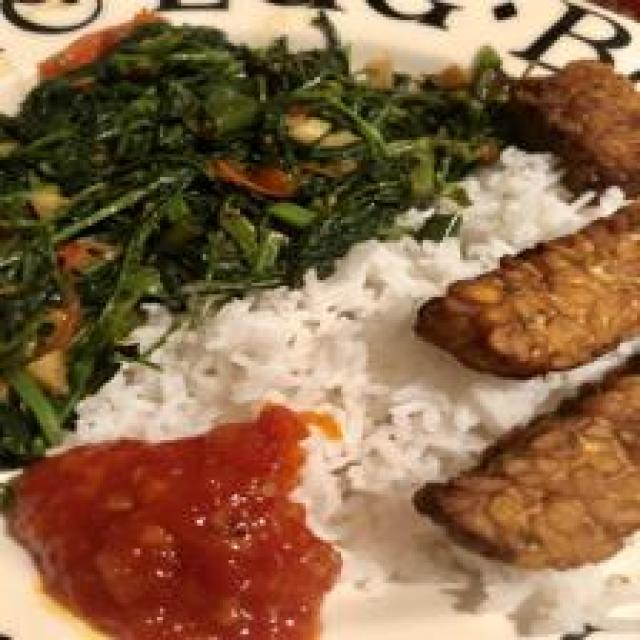Wet Waste: (67, 129, 618, 626)
